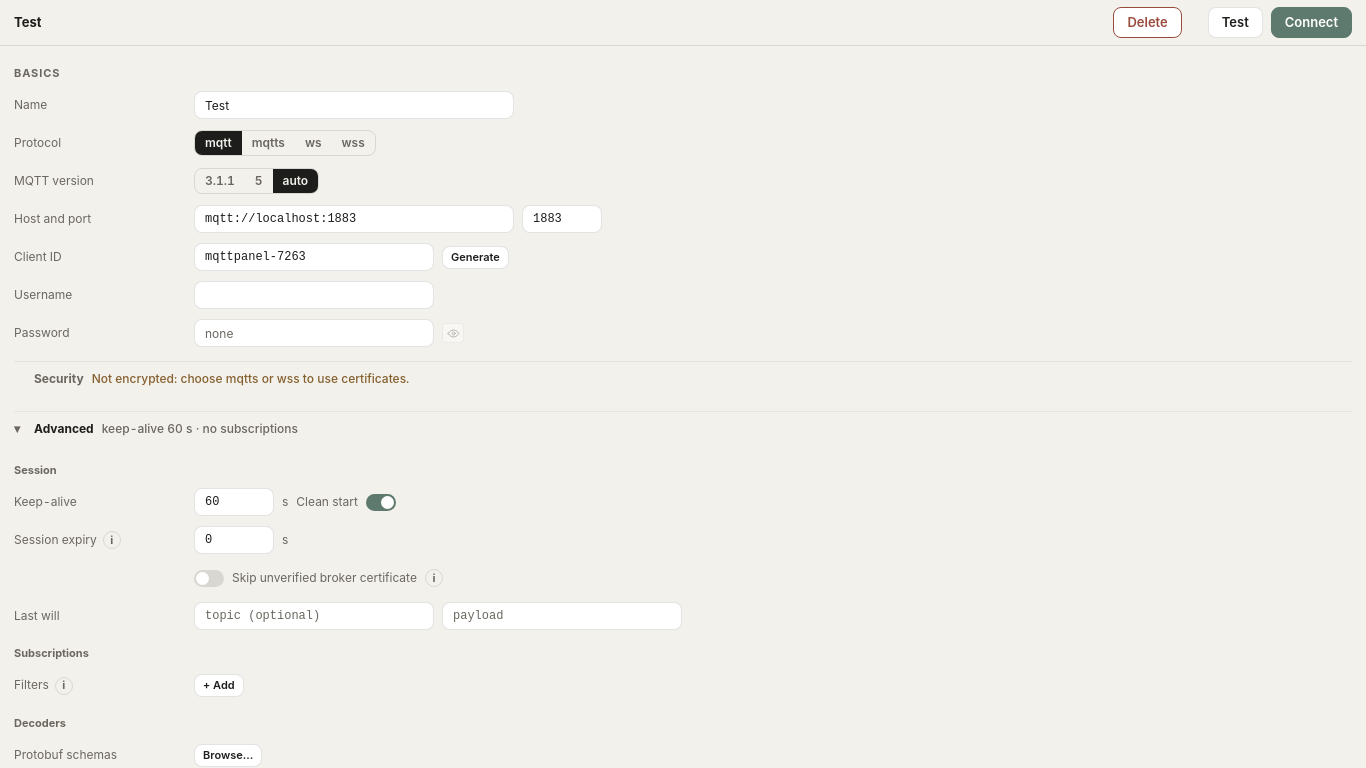
it: Connections form (C-08) › adds a subscription with the + Add popover
Click the button with test id "sub-add" at (219, 686), box [194,674,244,697]
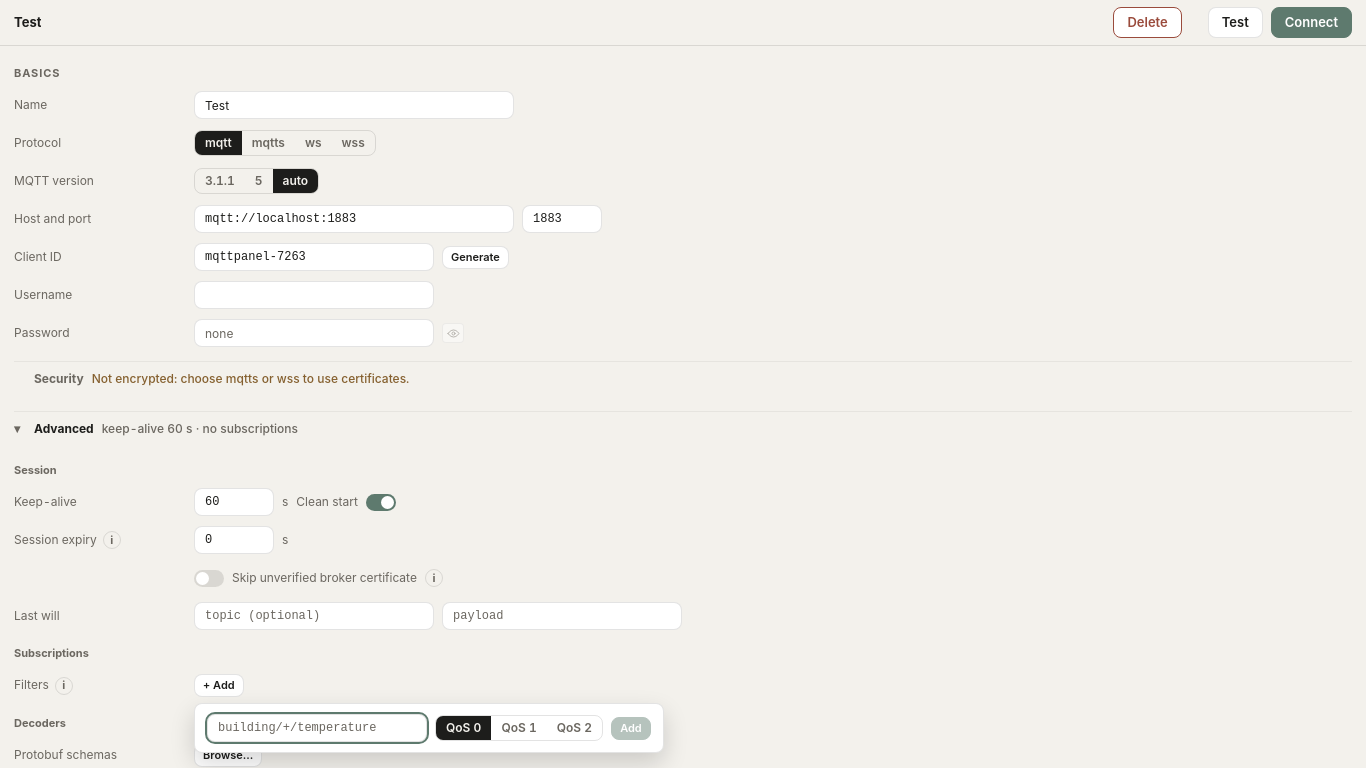
Type "building/#" into the field with test id "sub-filter" at (317, 728), box [207,714,427,742]
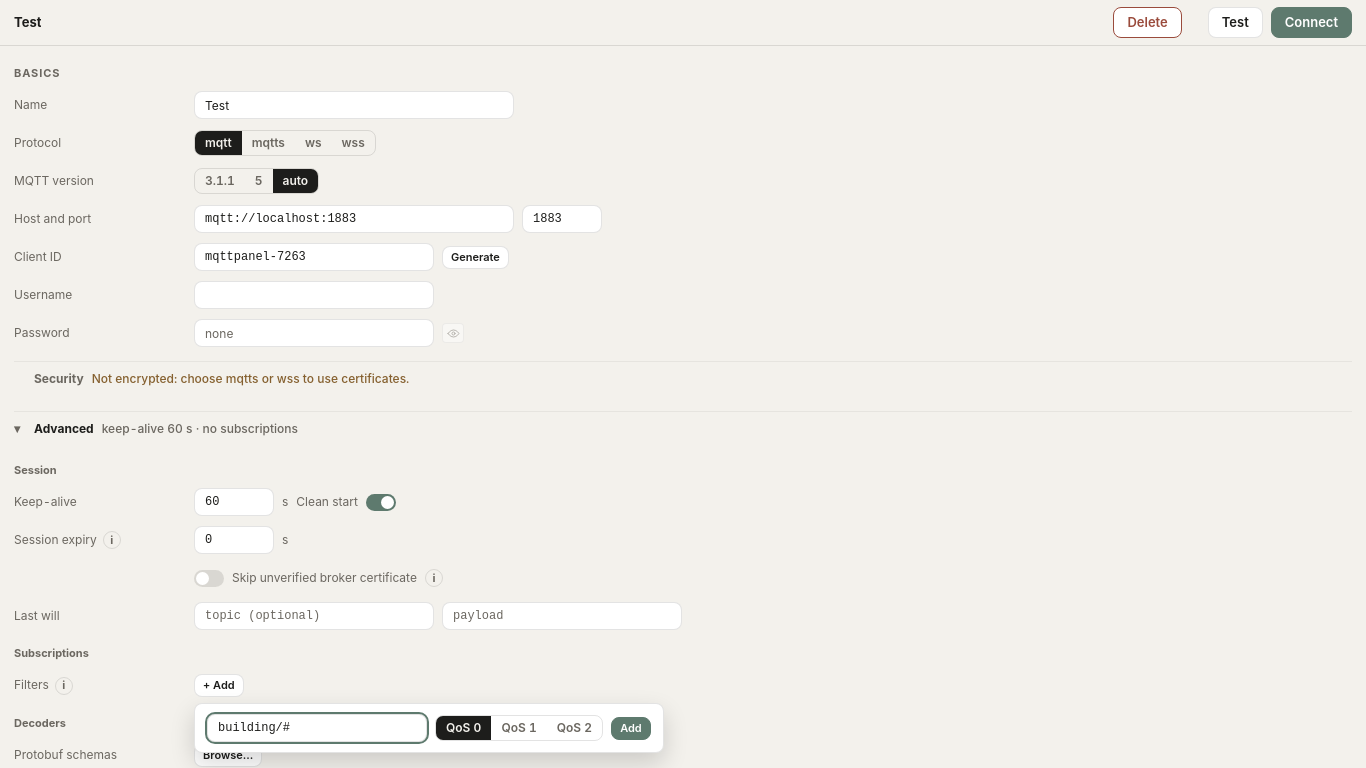
Click the button with test id "sub-add-ok" at (631, 728), box [611,717,651,740]
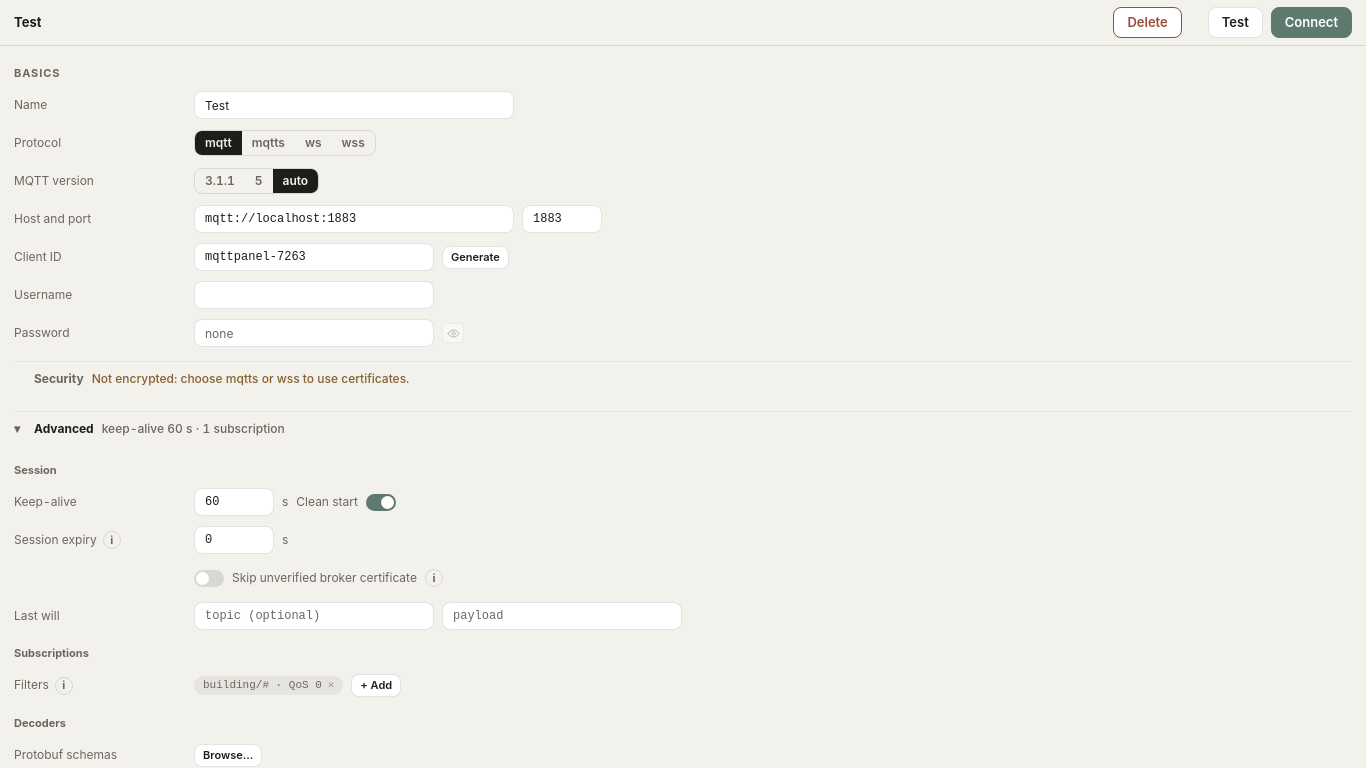
Expected: the element with test id "sub-chip" shows "building/# · QoS 0", [194,676,344,695]
